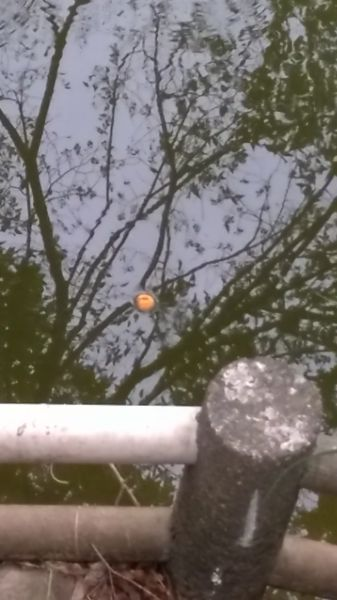eggs: (130, 291, 160, 314)
